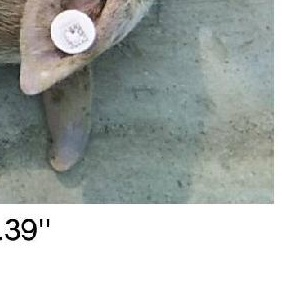text: (43, 1, 109, 65)
